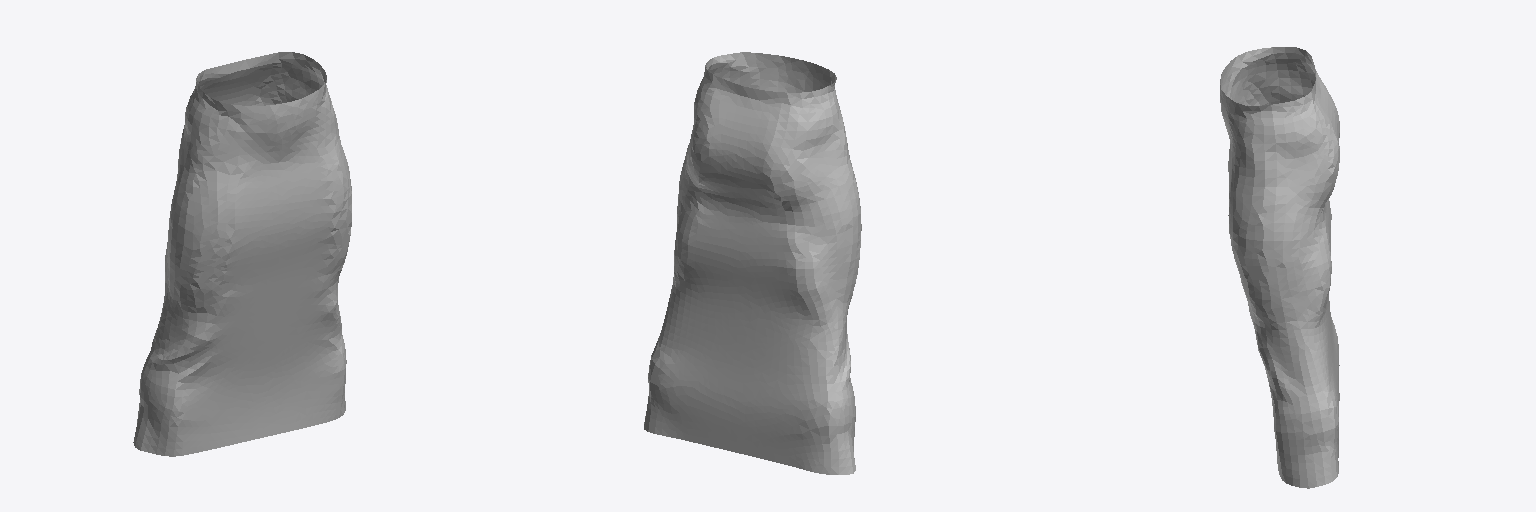
Rendered from bottom2.obj.
3 views of the same model, side by side, from view 1: azimuth 30°, elevation 25°; view 2: azimuth 150°, elevation 25°; view 3: azimuth 270°, elevation 25° (orthographic).
Parts seen in each view (by area): view 1: bottom2; view 2: bottom2; view 3: bottom2.
Boxes of the visible parts, x1=… form: bottom2: x1=133, y1=52, x2=351, y2=456; bottom2: x1=644, y1=52, x2=861, y2=474; bottom2: x1=1220, y1=47, x2=1339, y2=488.
Size of the model in its own units: 52.93 by 90.1 by 26.78.